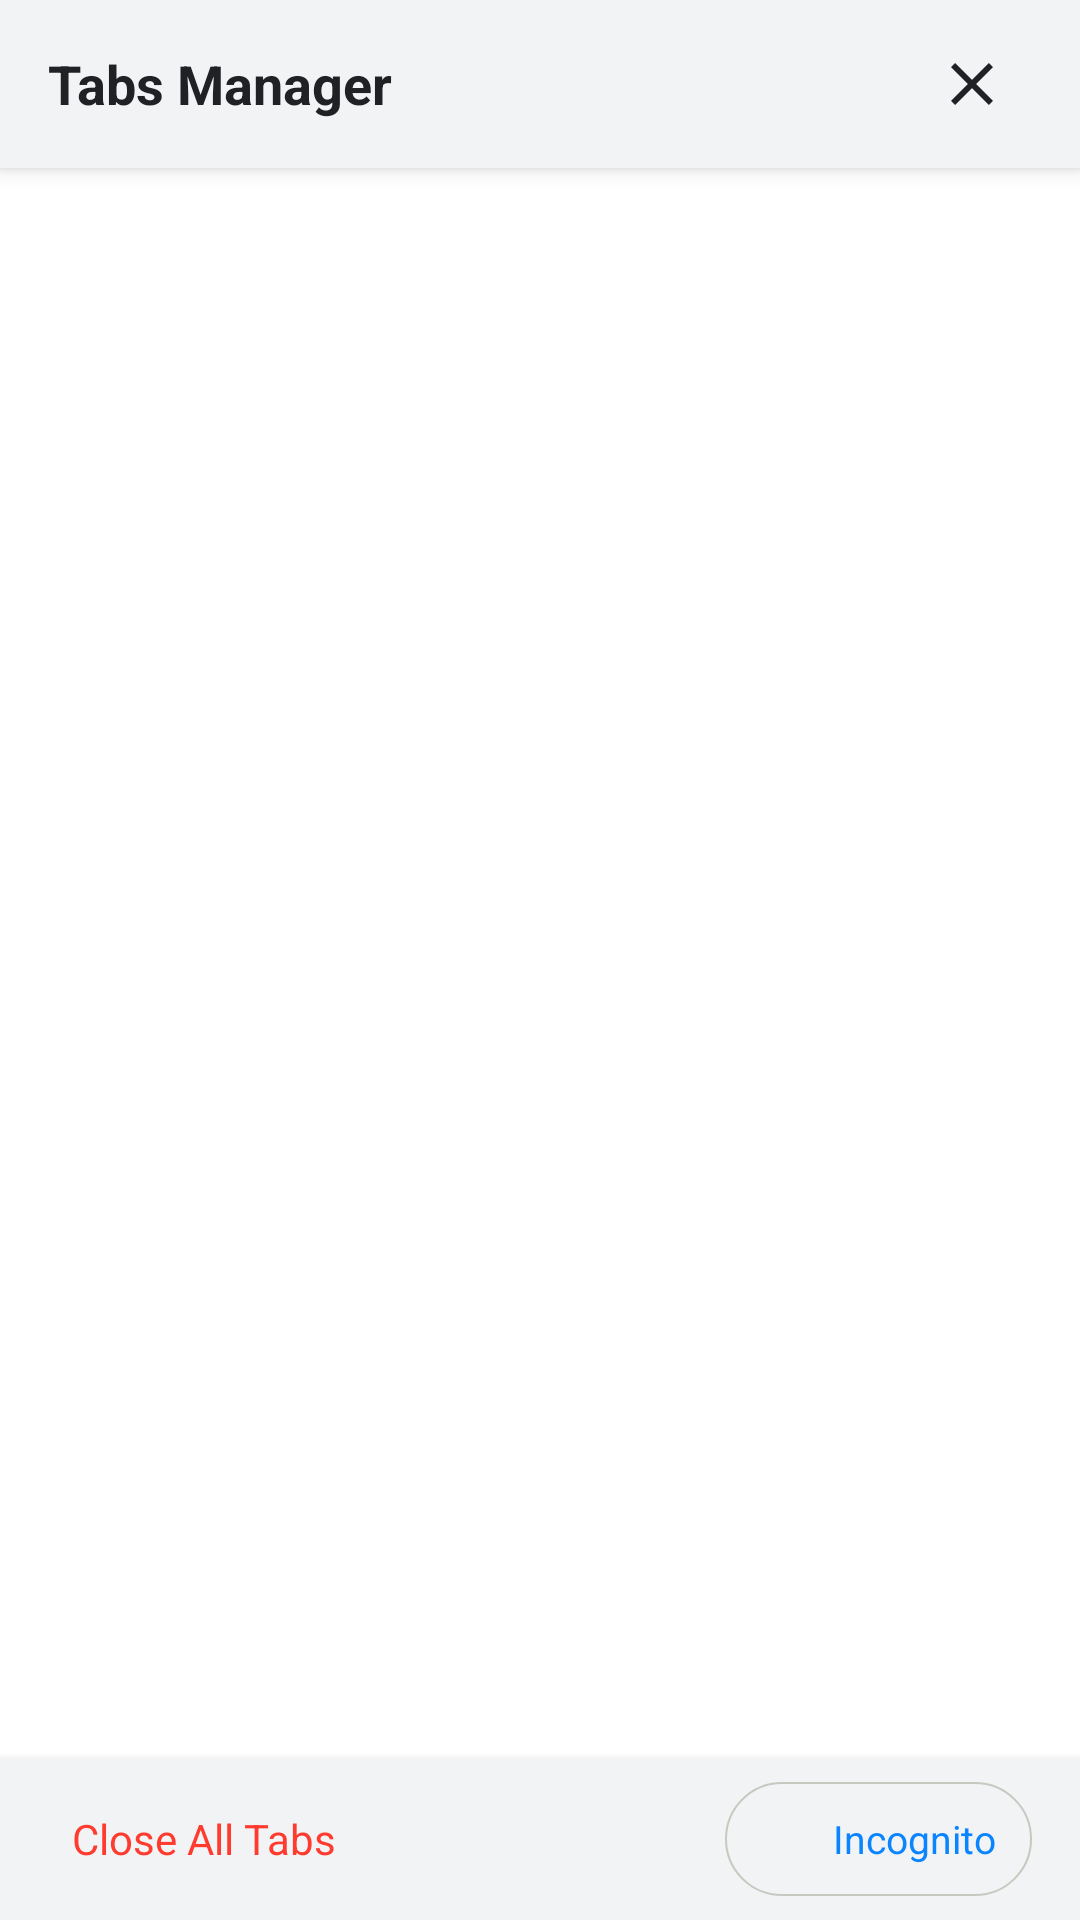

Point at icon controls on the screen. Image size 1080 x 1920, points as (x,y).
Close Tab: (972,84)
